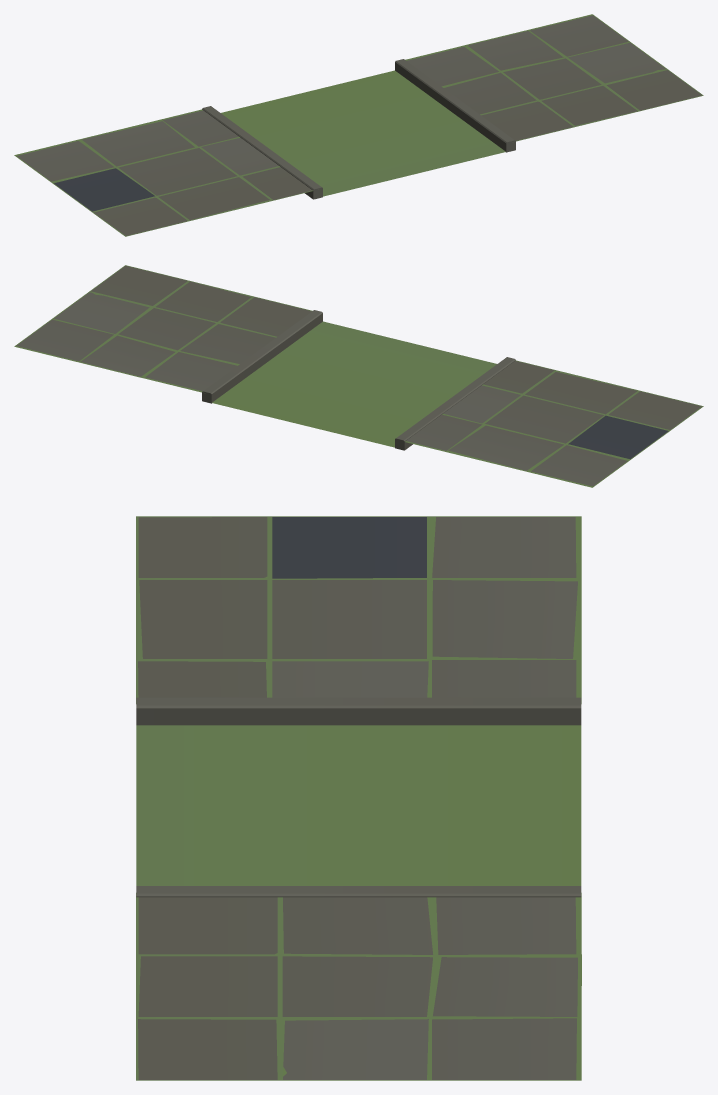
File: Road_24.fbx
3 renders of one model, top to bottom at view 1: azimuth 30°, elevation 25°; view 2: azimuth 150°, elevation 25°; view 3: azimuth 270°, elevation 25°, orthographic. The views are drawn at different scales.
Parts seen in each view (by area): view 1: Road_24; view 2: Road_24; view 3: Road_24.
Part boxes in pixels (x1,y1,x2,y2): Road_24: (14, 14, 703, 236); Road_24: (14, 265, 703, 487); Road_24: (136, 516, 581, 1080).
Size of the model in its own units: 9 by 0.15 by 3.01.
